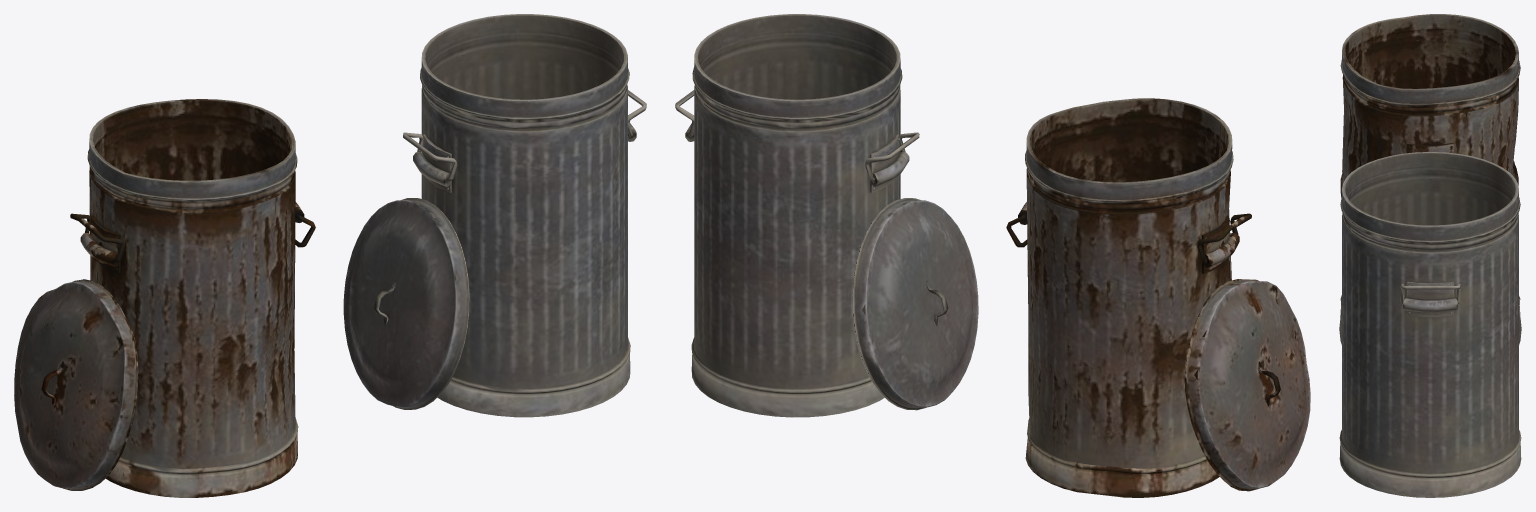
File: trash_can.glb
3 views of the same model, side by side, from view 1: azimuth 30°, elevation 25°; view 2: azimuth 150°, elevation 25°; view 3: azimuth 270°, elevation 25° (orthographic). The views are drawn at different scales.
Size of the model in its own units: 1.78 by 0.9062 by 0.5543.
Materials: 2 (2 with a texture image).
